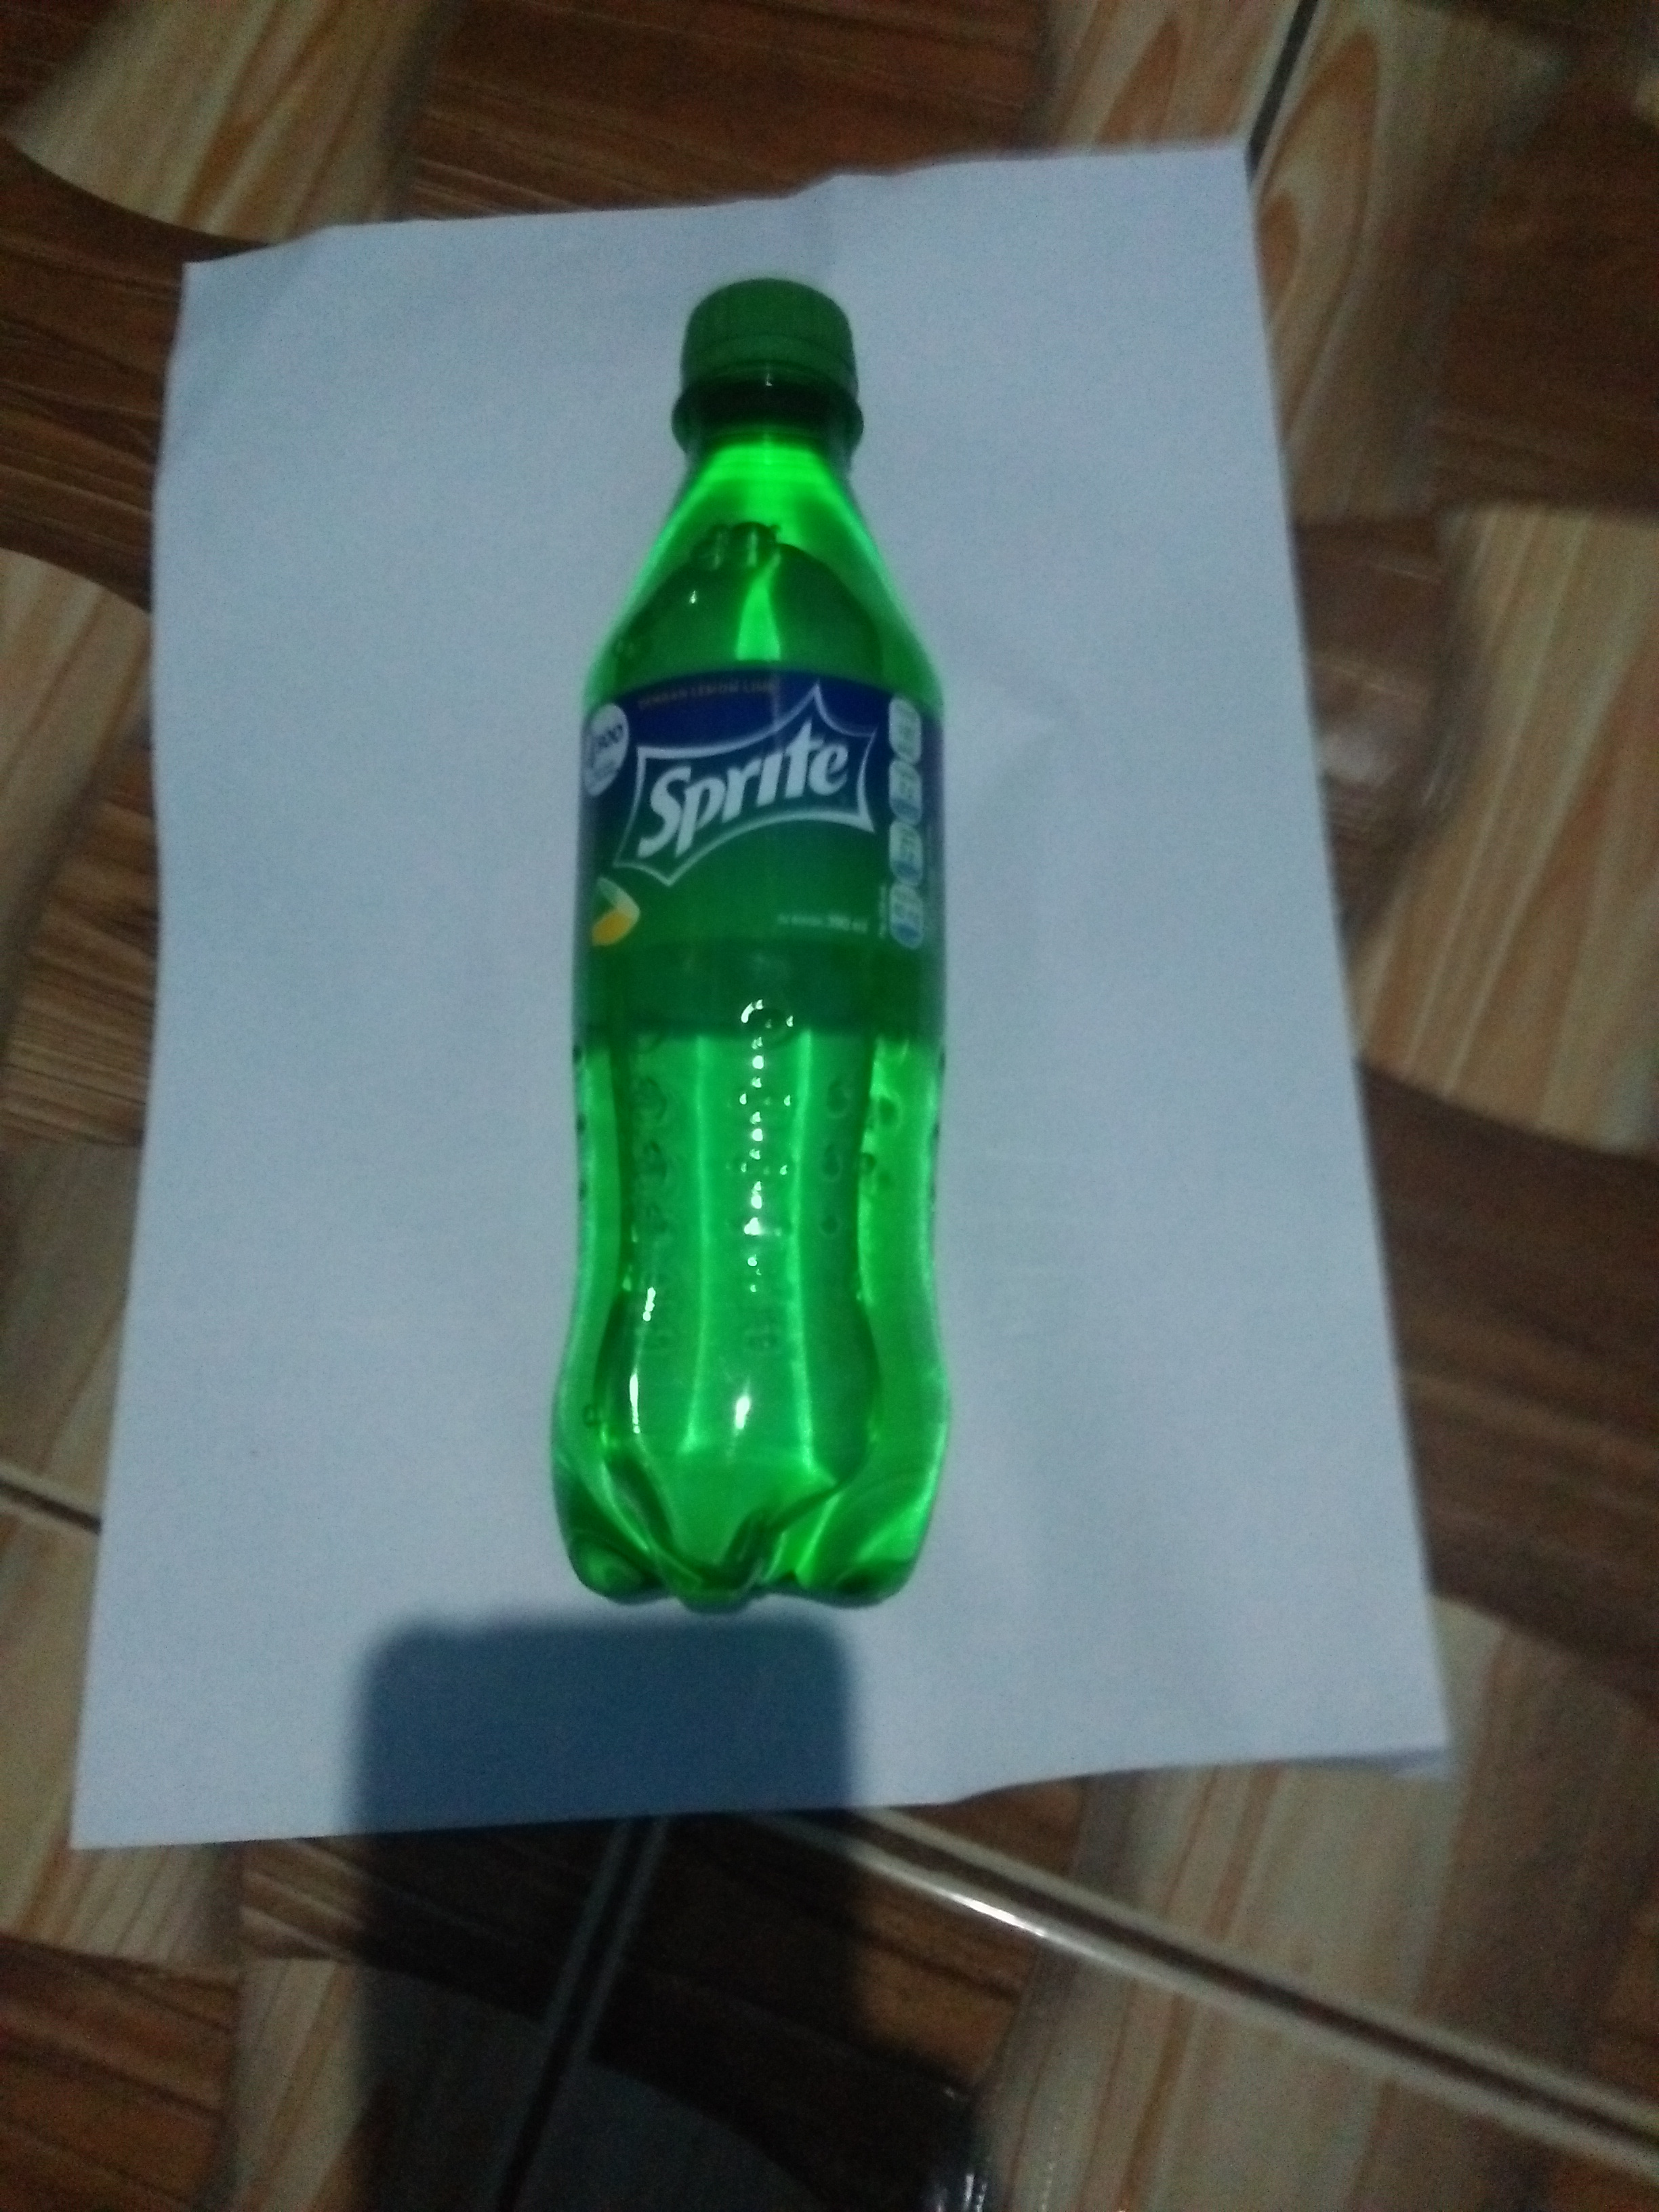Sprite: (540, 263, 995, 1632)
